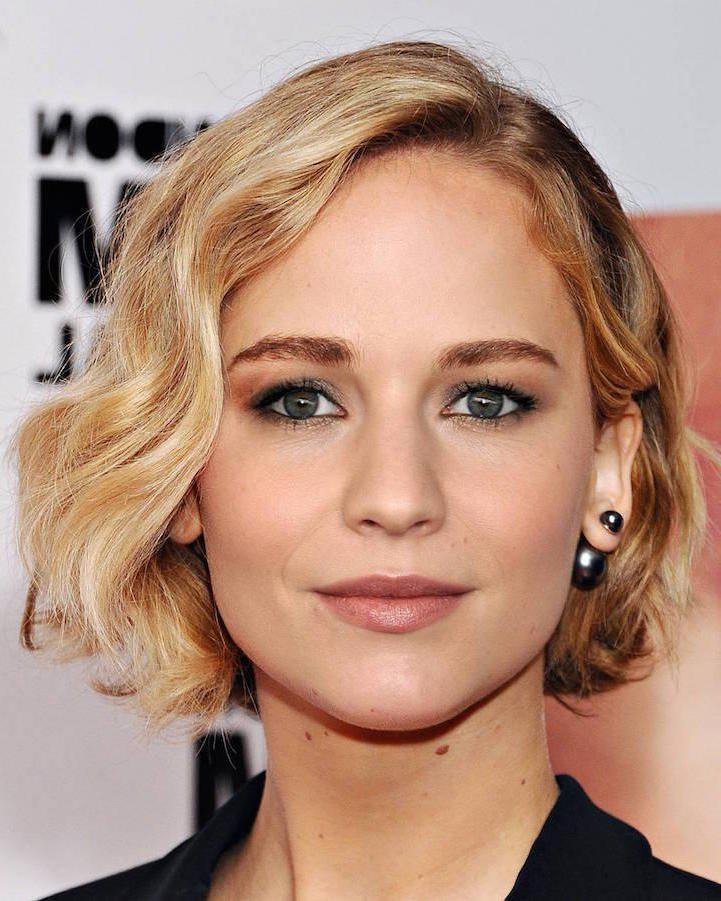Sober: (189, 190, 590, 701)
